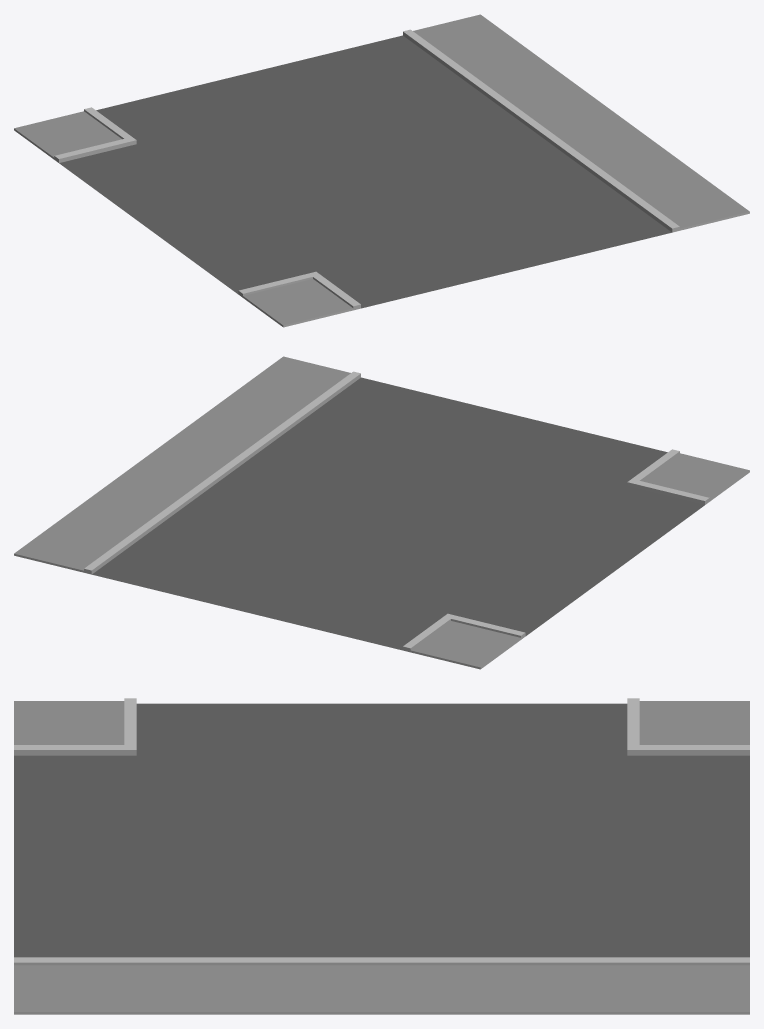
File: street_4cross3.fbx
3 views of the same model, one above another, from view 1: azimuth 30°, elevation 25°; view 2: azimuth 150°, elevation 25°; view 3: azimuth 270°, elevation 25° (orthographic). The views are drawn at different scales.
Visible parts, largest first — view 1: street_4cross3; view 2: street_4cross3; view 3: street_4cross3.
Boxes of the visible parts, x1,y1,x2,y2 form: street_4cross3: [14, 14, 749, 327]; street_4cross3: [14, 356, 749, 669]; street_4cross3: [14, 698, 749, 1014].
Bounding box in the file's own units: 24 × 0.2 × 24.
